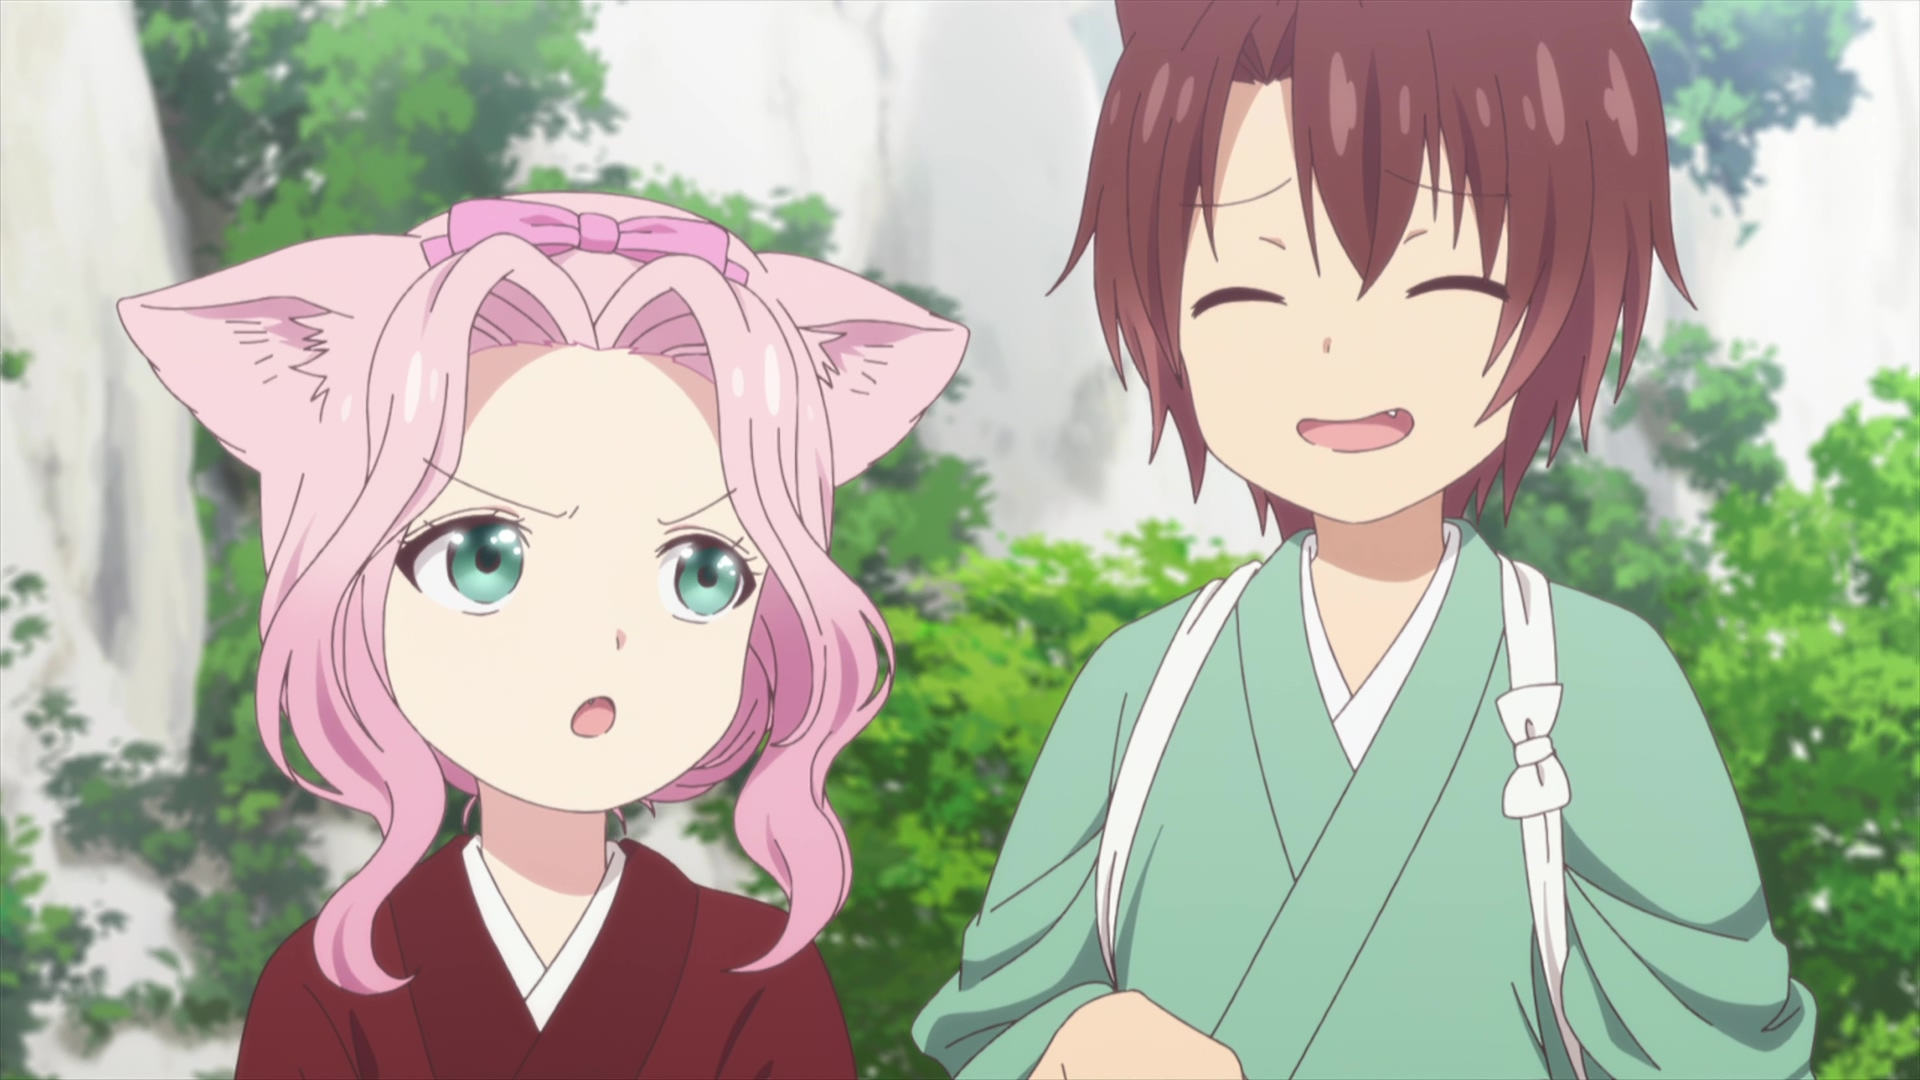枣: (913, 1, 1815, 1080)
莲: (116, 193, 969, 1080)
